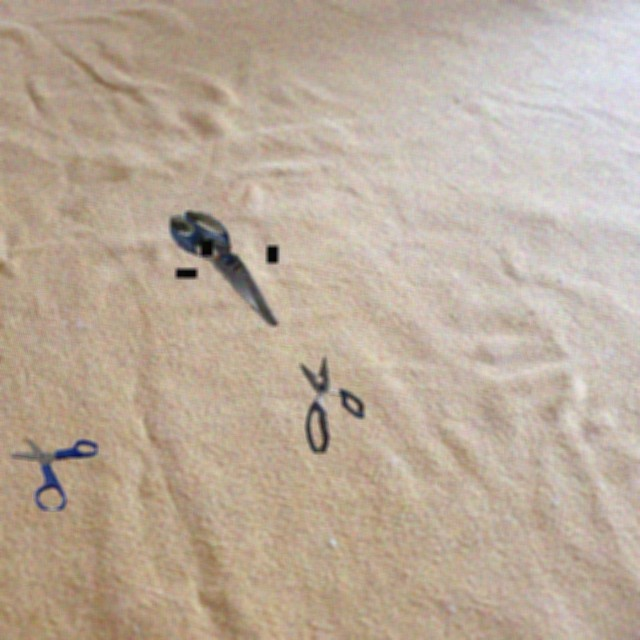scissors: (170, 211, 278, 326), (10, 438, 97, 510), (300, 356, 364, 453)
